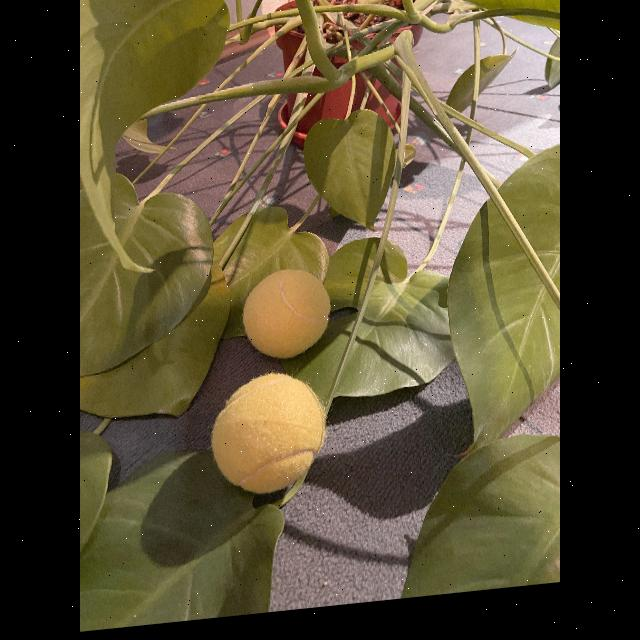Tennisball: (211, 373, 326, 494), (243, 269, 330, 358)
